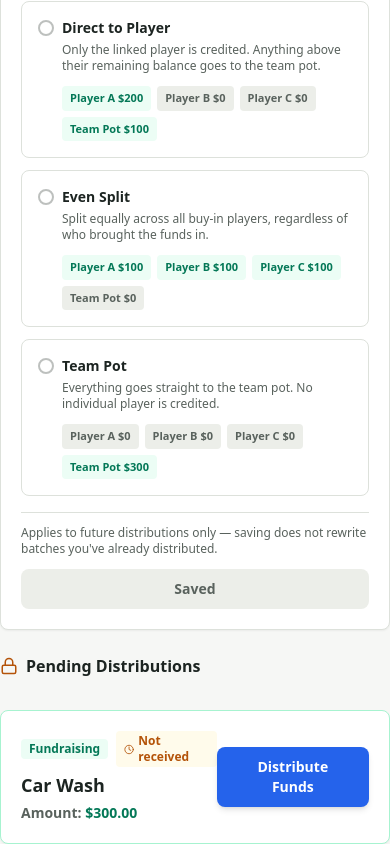
Scenario: SponsorsView manual split › shows the unallocated remainder as headed for the team pot
(page scrolled)
Click the button "Distribute Funds" at (293,777), box x1=217 y1=747 x2=369 y2=807
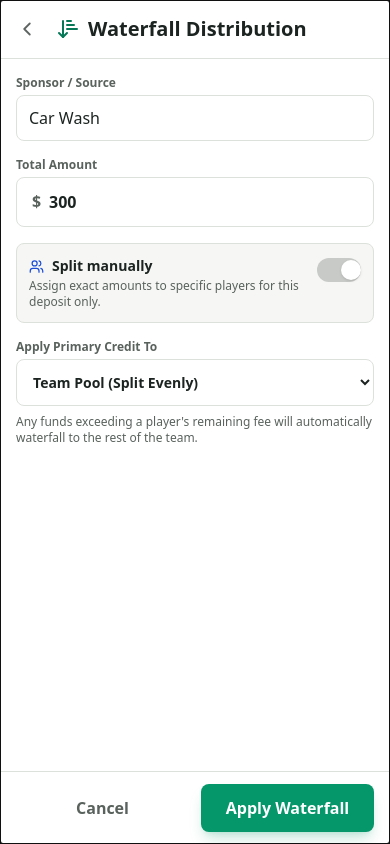
Click the switch named "Split manually" at (339,270), box x1=317 y1=258 x2=361 y2=282
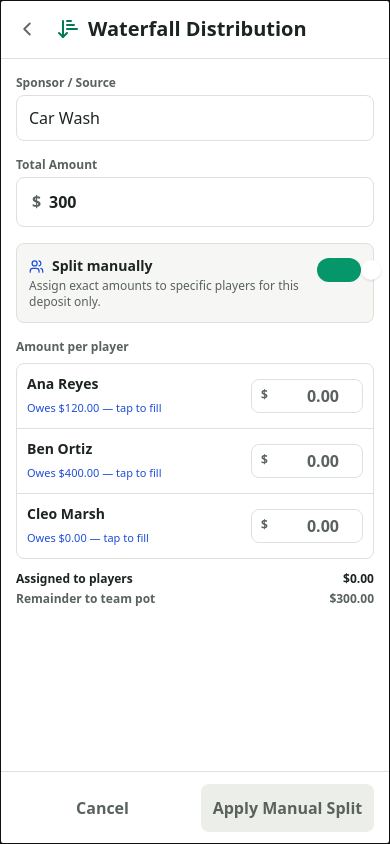
Type "100" into the number field named "Ben Ortiz" at (307,461), box x1=251 y1=444 x2=363 y2=478
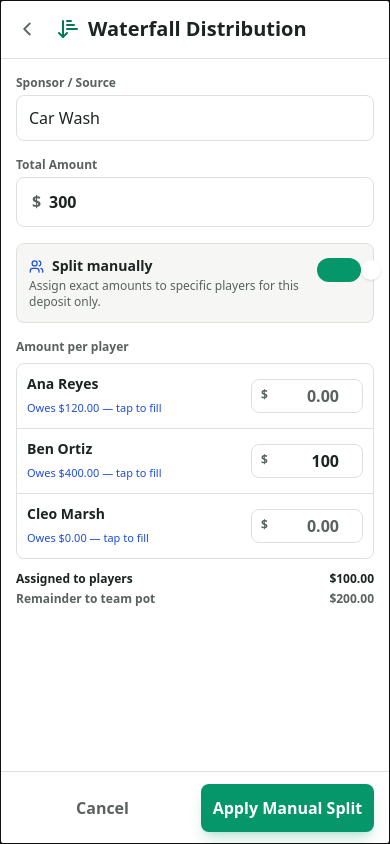
Expected: the text "$200.00" is shown, x1=329 y1=591 x2=374 y2=607
